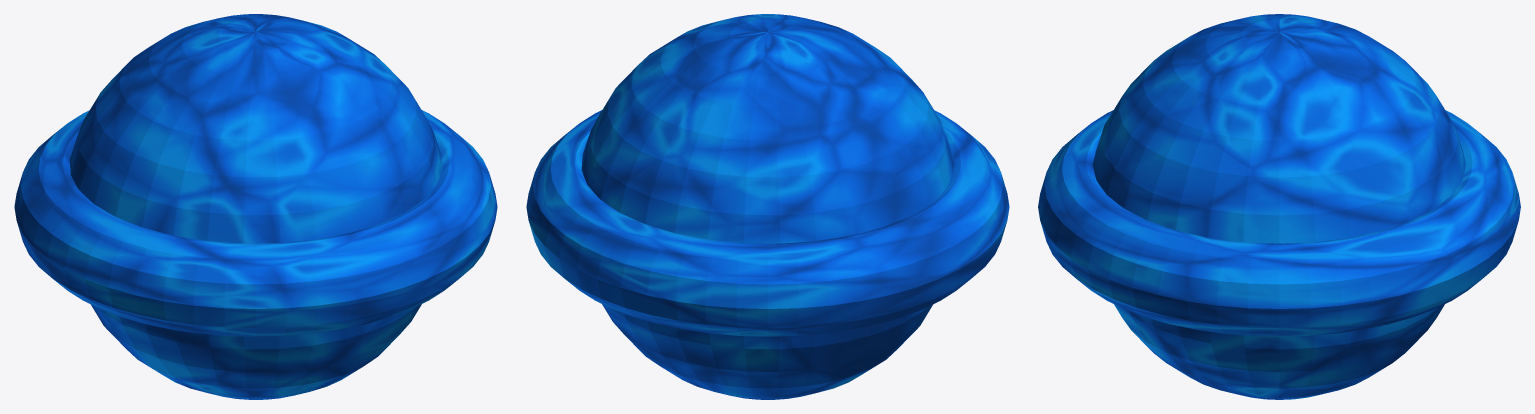
Rendered from weird.obj.
3 renders of one model, left to right at view 1: azimuth 30°, elevation 25°; view 2: azimuth 150°, elevation 25°; view 3: azimuth 270°, elevation 25°, orthographic.
Parts seen in each view (by area): view 1: Torus; view 2: Torus; view 3: Torus.
Boxes of the visible parts, x1,y1,x2,y2 form: Torus: (14, 14, 497, 399); Torus: (526, 14, 1009, 399); Torus: (1038, 14, 1520, 399).
Size of the model in its own units: 2.5 by 2 by 2.5.
1 material, 1 textured.
